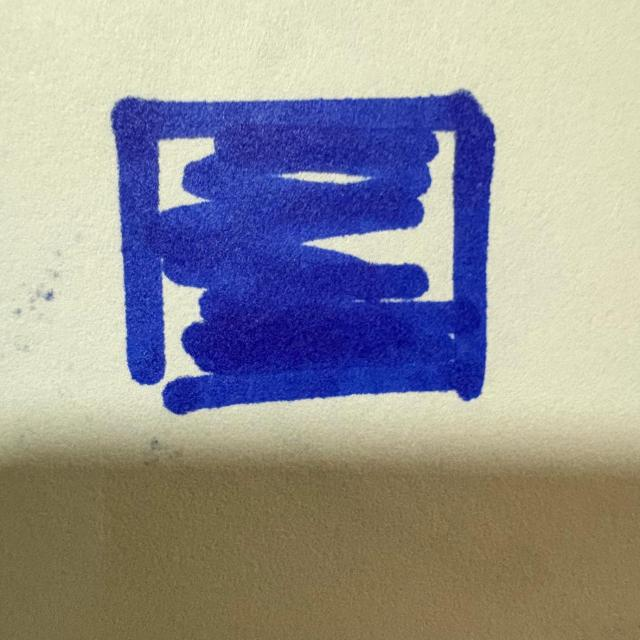Square: (100, 84, 512, 422)
